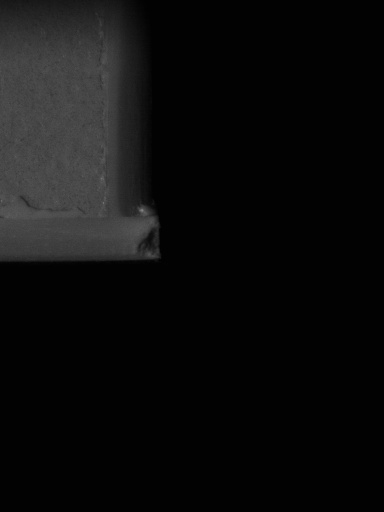bengque: (136, 224, 161, 262)
